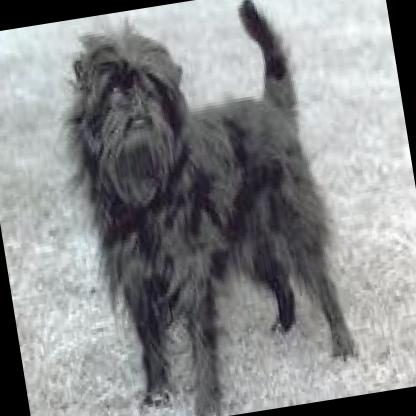affenpinscher: (33, 0, 366, 416)
